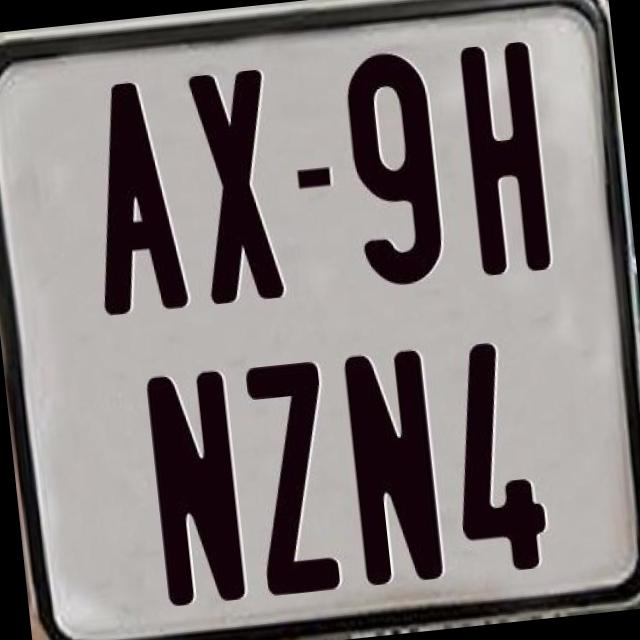4: (443, 333, 558, 573)
9: (340, 45, 448, 288)
A: (80, 75, 192, 314)
H: (454, 36, 550, 278)
N: (144, 368, 254, 610), (342, 346, 449, 590)
X: (186, 65, 289, 311)
Z: (243, 360, 343, 600)
